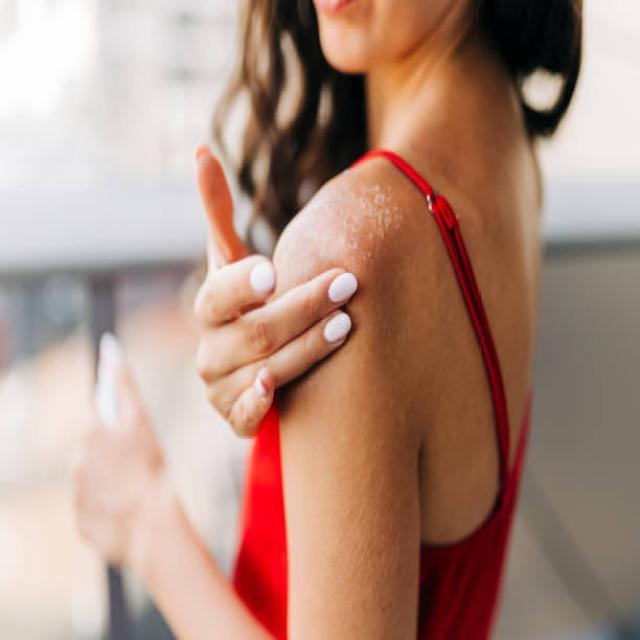dry: (312, 171, 426, 284)
